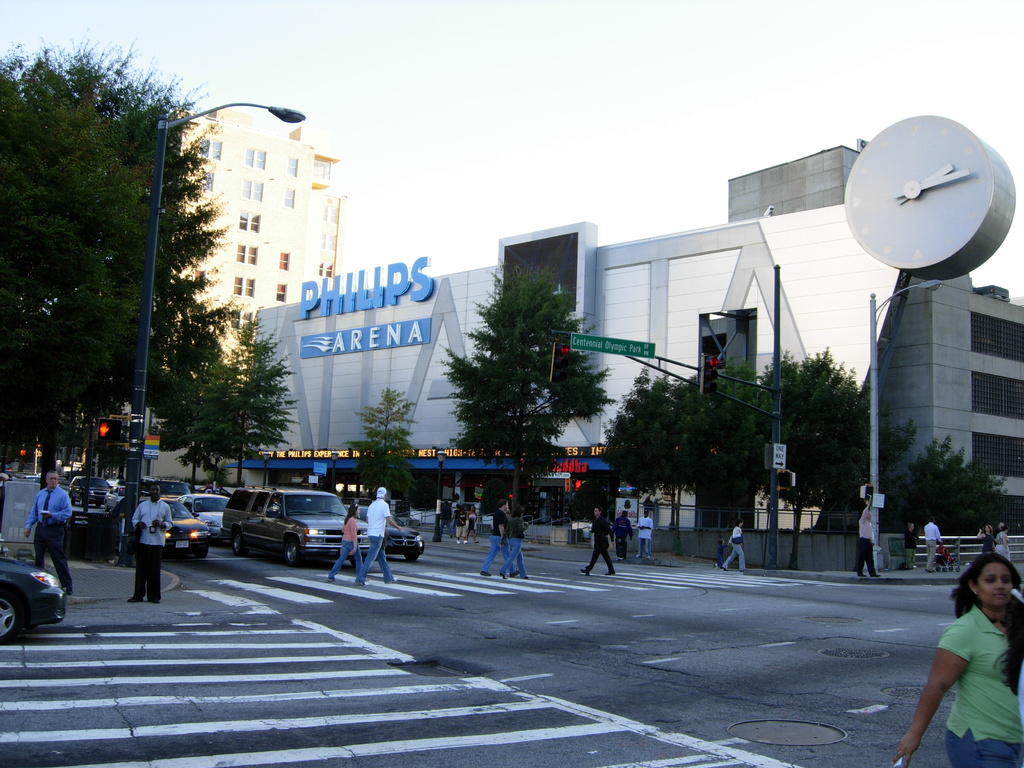Car: (220, 485, 370, 568), (0, 551, 68, 644), (108, 499, 210, 560), (343, 504, 424, 563), (179, 493, 229, 547), (140, 476, 191, 503), (69, 476, 110, 509)
